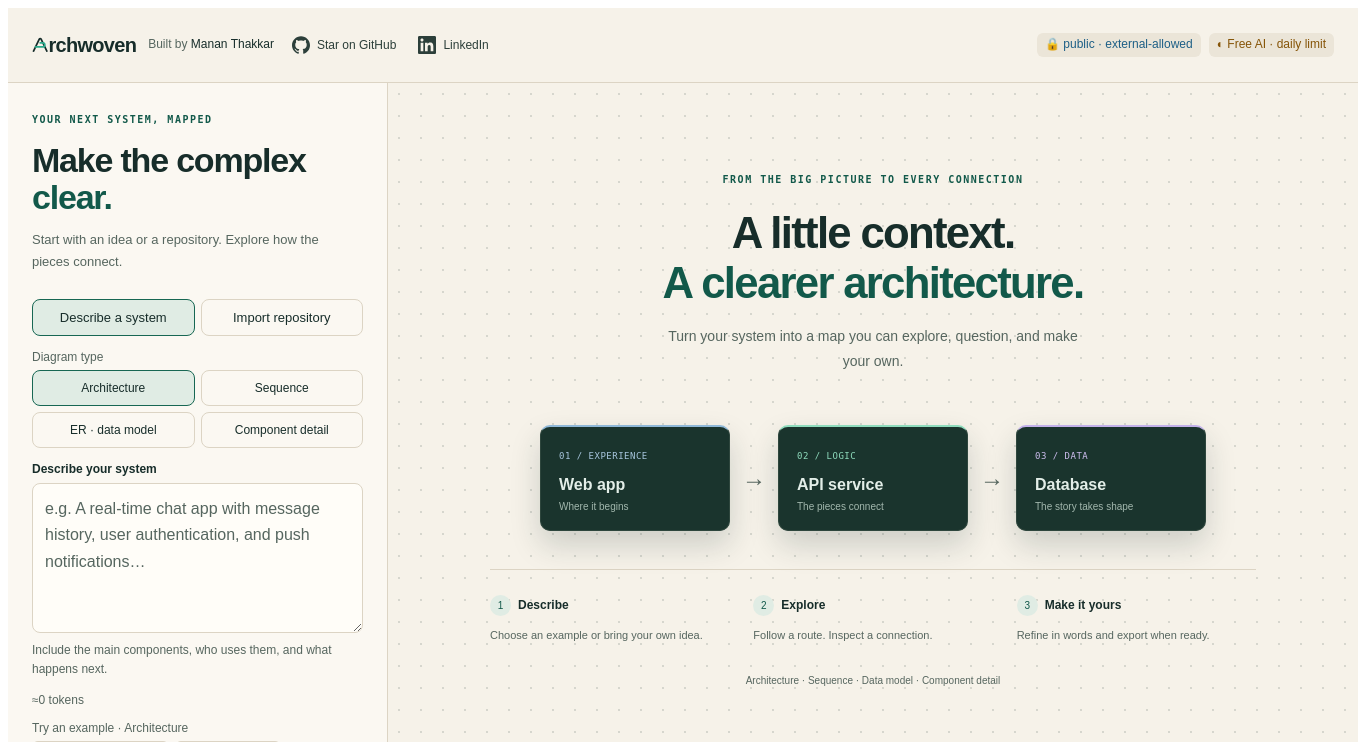
it: hosted money limits in the header › does not describe hosted repository analysis as local and free of credits
Click the button "Import repository": (282, 318) [200,299,363,336]
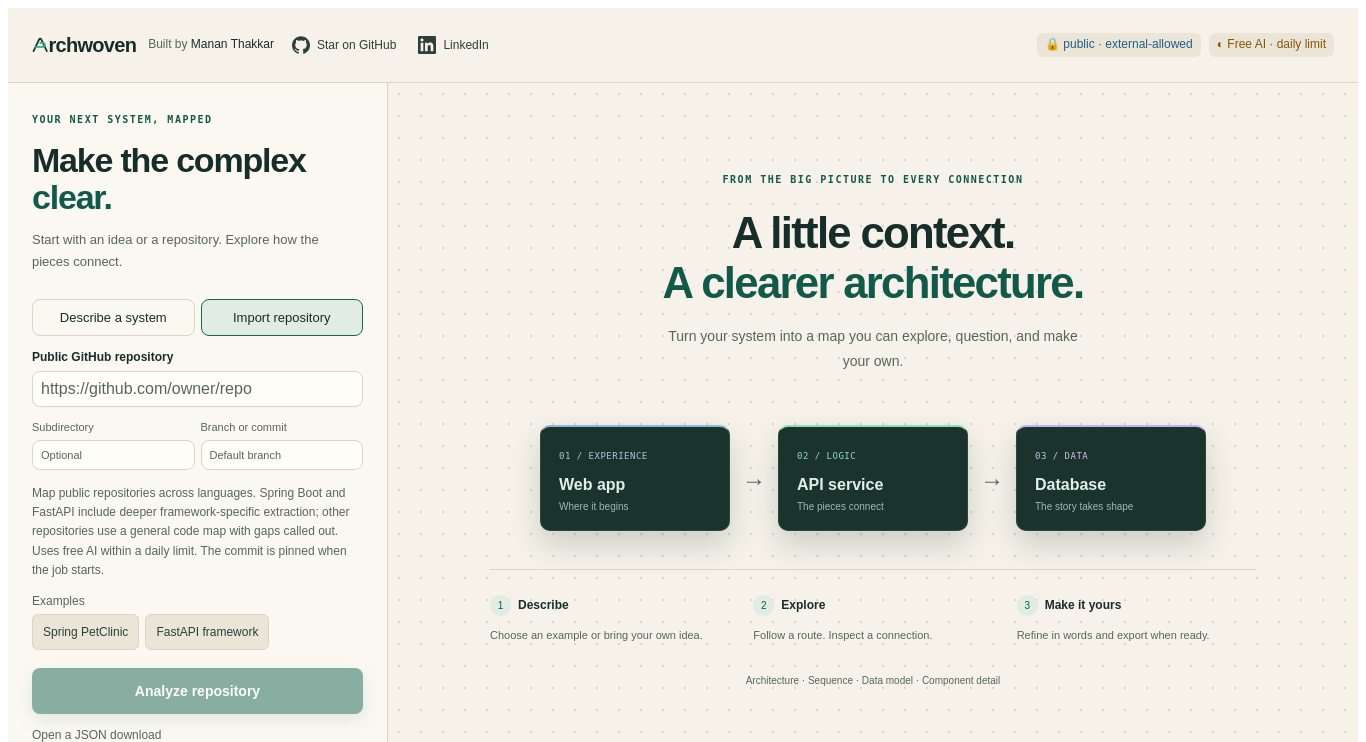
Expected: the element with id "repository-help" shows "Uses free AI within a daily limit.", [32,544,200,558]
